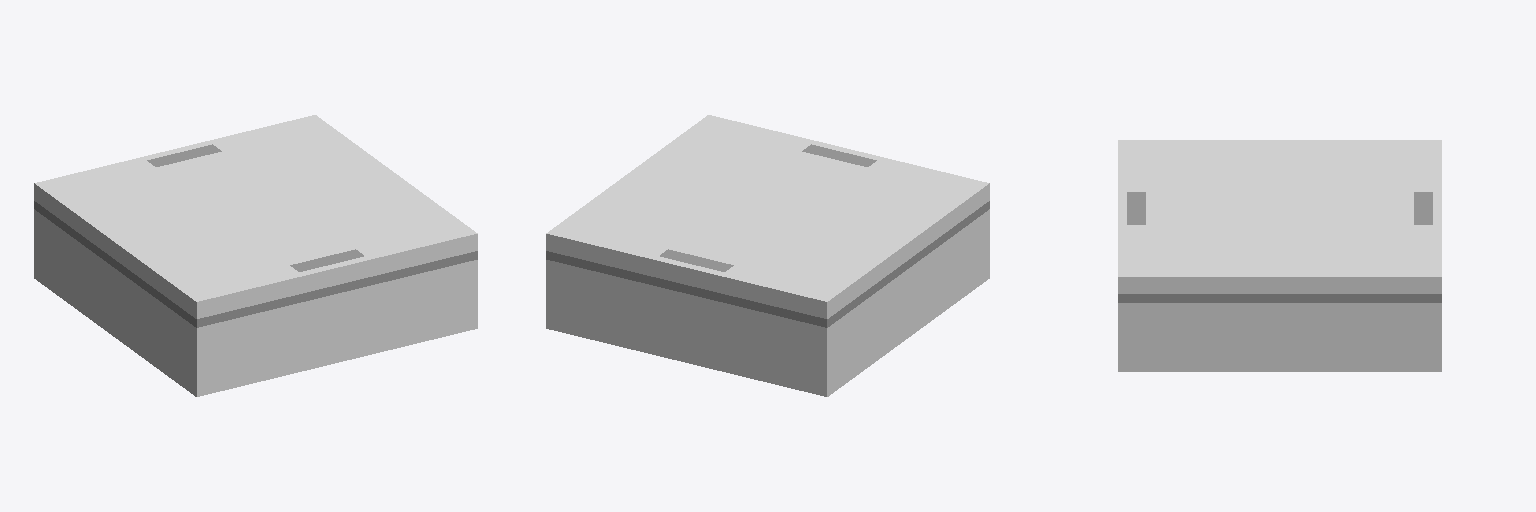
3 renders of one model, left to right at view 1: azimuth 30°, elevation 25°; view 2: azimuth 150°, elevation 25°; view 3: azimuth 270°, elevation 25°, orthographic.
Visible parts, largest first — view 1: control_box_NG_C_62; view 2: control_box_NG_C_62; view 3: control_box_NG_C_62.
Boxes of the visible parts, x1=… form: control_box_NG_C_62: x1=34, y1=115, x2=477, y2=396; control_box_NG_C_62: x1=546, y1=115, x2=989, y2=396; control_box_NG_C_62: x1=1118, y1=140, x2=1441, y2=371.
Size of the model in its own units: 3.4 by 1.1 by 3.4.
Materials: 1 (1 with a texture image).